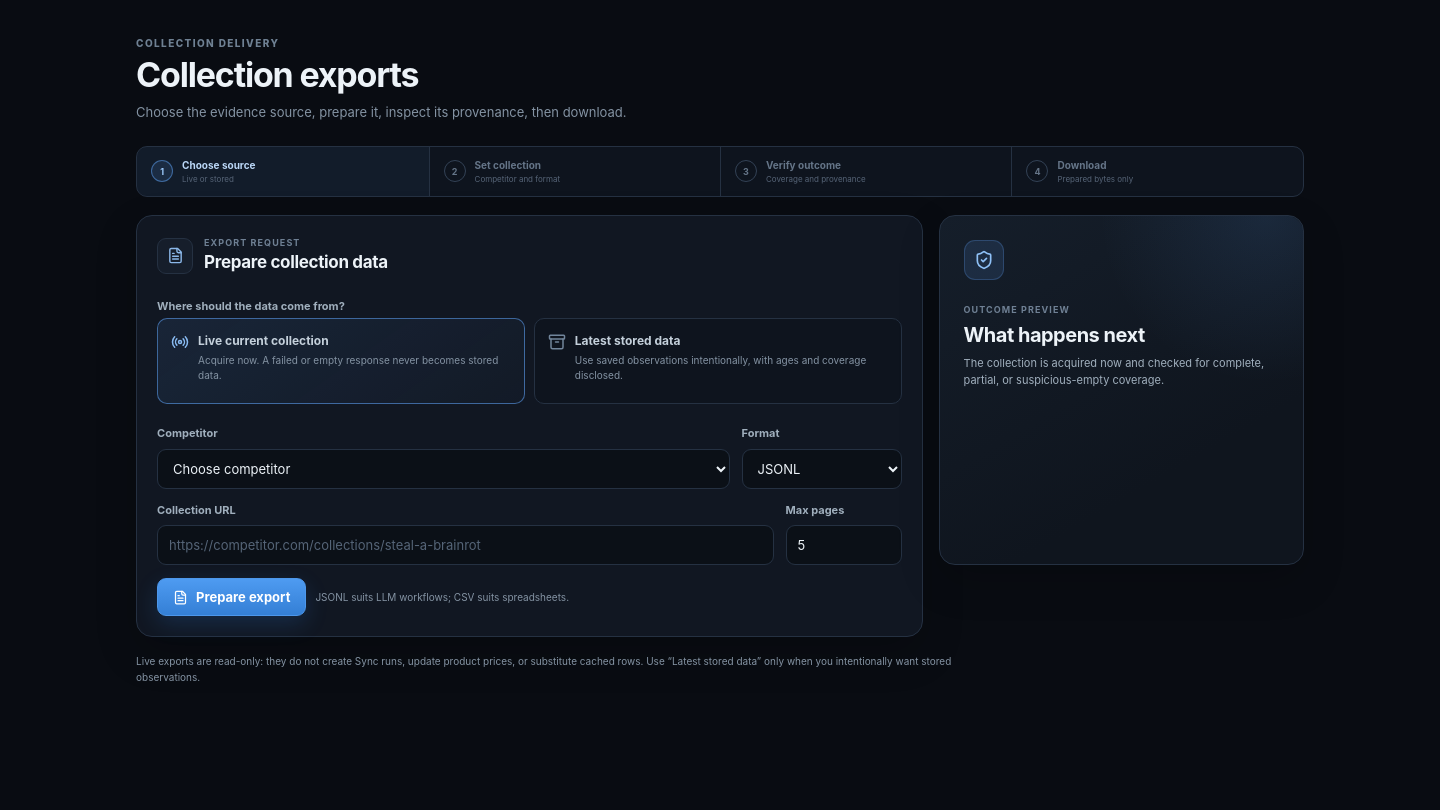
it: Collection exports daily-use states › shows honest loading while synchronous acquisition is in progress
Select "Alpha Store" in the dropdown labelled "Competitor". click: [443, 469]
box: [157,449,730,489]
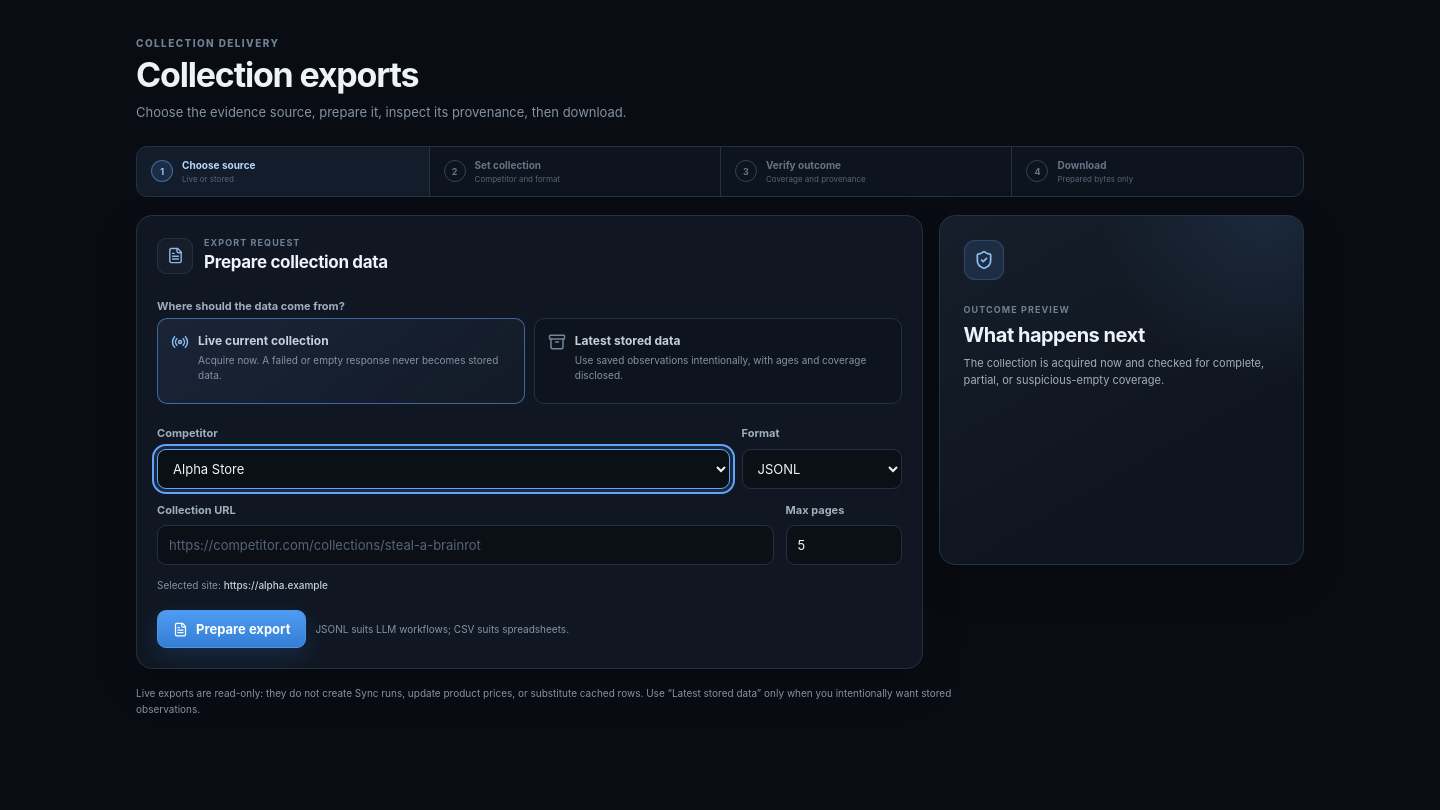
Type "https://alpha.example/collections/murder-mystery-2" into the field labelled "Collection URL". click: [465, 545]
box: [157,525,774,565]
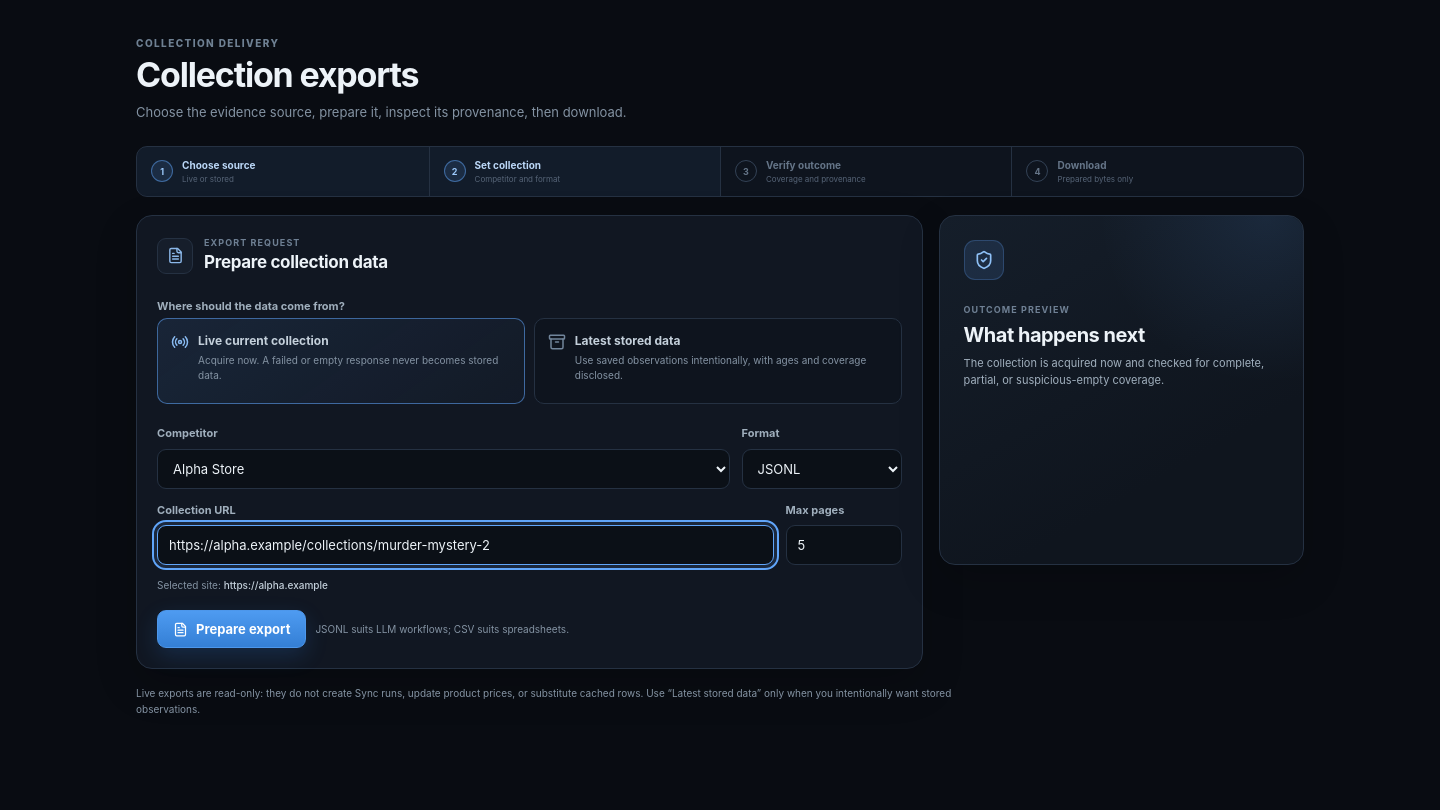
Click the button "Prepare export". click: [232, 629]
box: [157,610,306,648]
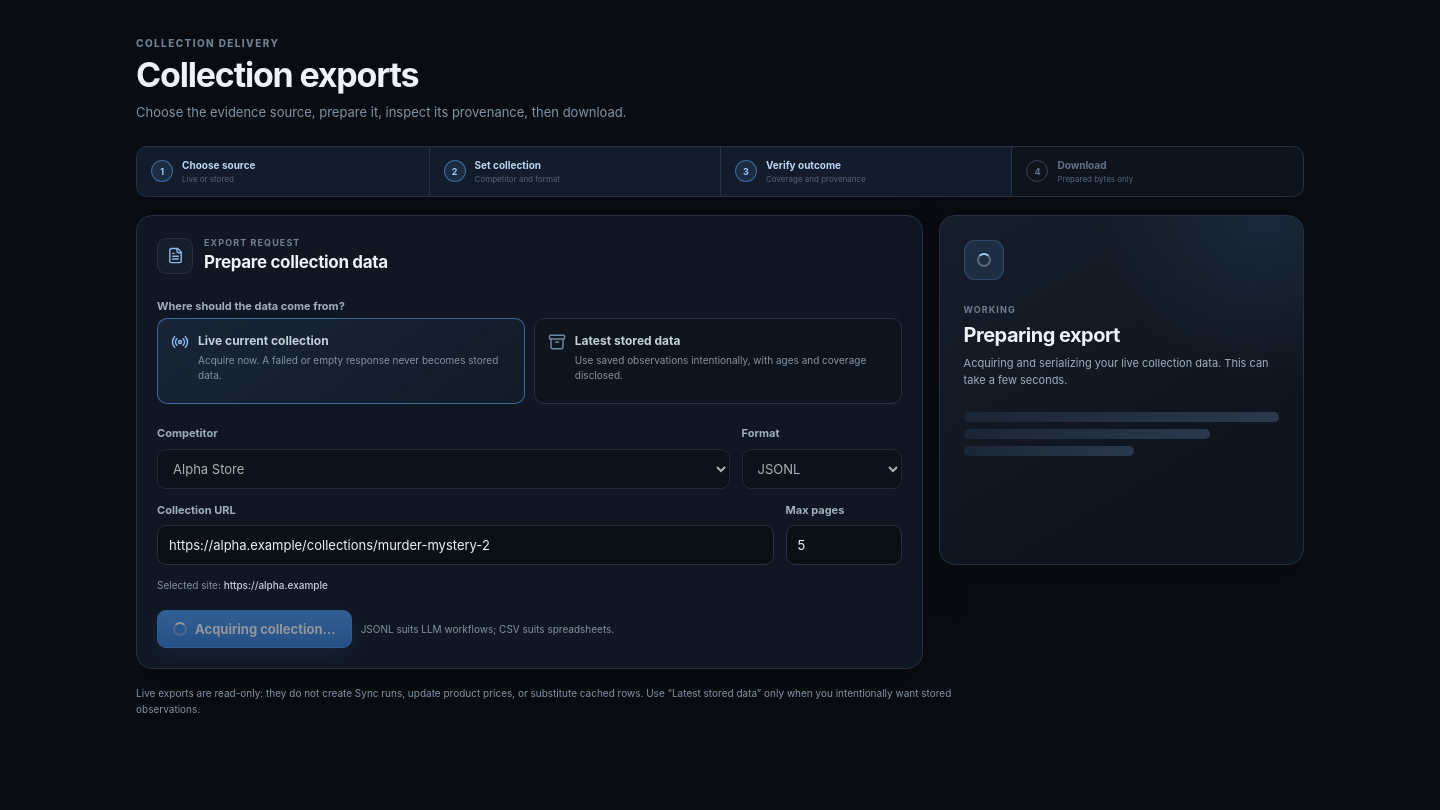
Check: the text "Acquiring and serializing" is shown, box [964,356,1121,370]
Check: the button "Acquiring collection…" is disabled, box [157,610,352,648]
